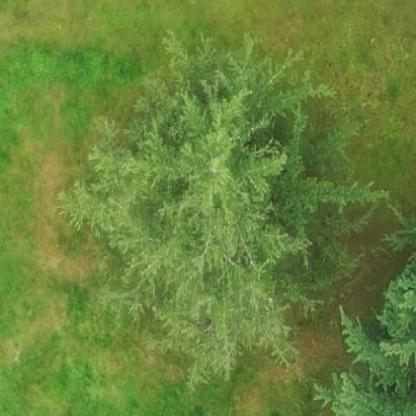Coniferous Tree: (71, 46, 360, 361), (327, 188, 416, 416)
